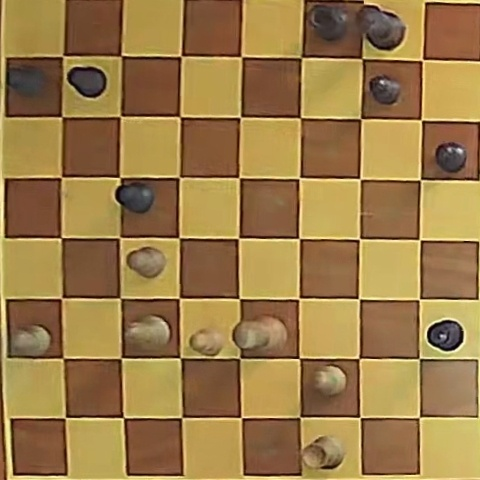black-king: (358, 6, 405, 50)
black-pawn: (7, 64, 48, 97), (67, 66, 107, 98), (116, 182, 154, 213), (435, 142, 467, 173), (370, 75, 401, 105)
black-rook: (309, 4, 348, 41), (427, 320, 464, 352)
white-bishop: (125, 315, 170, 351)
white-king: (234, 316, 288, 353)
white-pawn: (11, 325, 52, 356), (127, 247, 166, 278), (190, 327, 226, 356), (313, 365, 346, 396)
white-rook: (303, 436, 345, 470)
